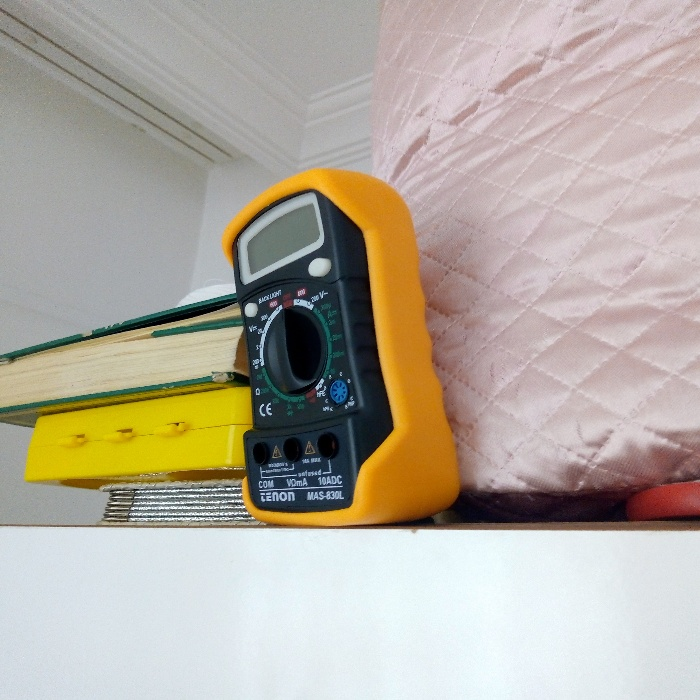multimetre: (196, 172, 466, 534)
